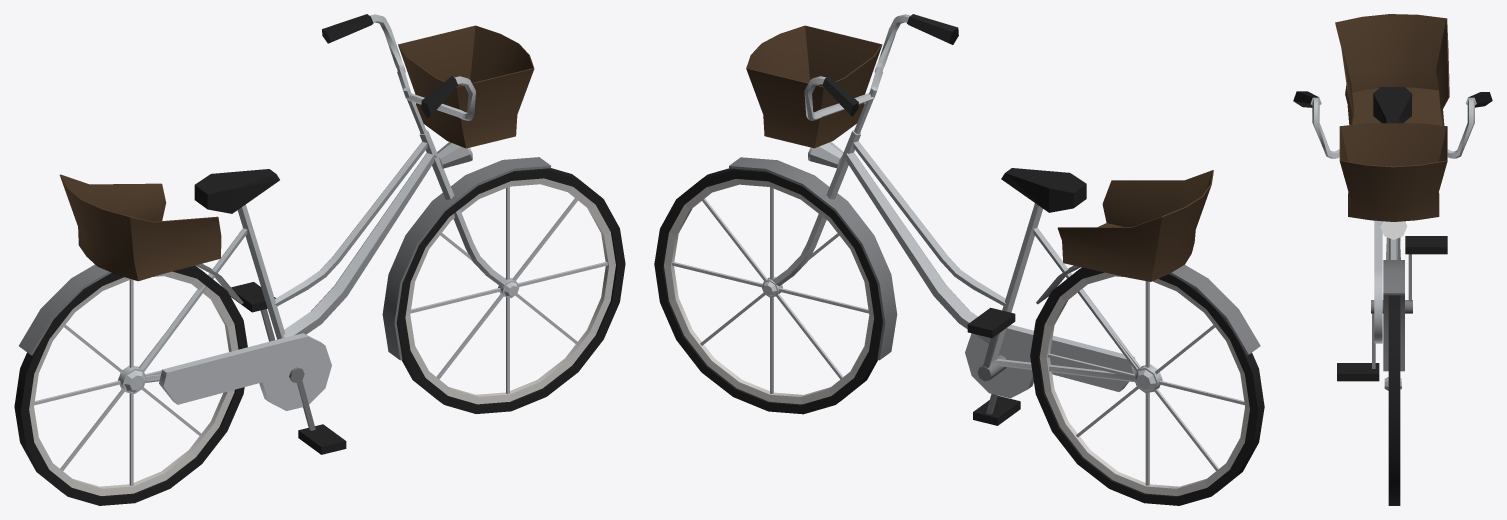
The model's file is SM_citybike_silver.fbx.
3 renders of one model, left to right at view 1: azimuth 30°, elevation 25°; view 2: azimuth 150°, elevation 25°; view 3: azimuth 270°, elevation 25°, orthographic. The views are drawn at different scales.
Visible parts, largest first — view 1: Box113; view 2: Box113; view 3: Box113.
Boxes of the visible parts, x1,y1,x2,y2 form: Box113: (14,14,625,505); Box113: (654,14,1264,505); Box113: (1293,14,1492,505).
Size of the model in its own units: 101 by 31.54 by 61.8.
